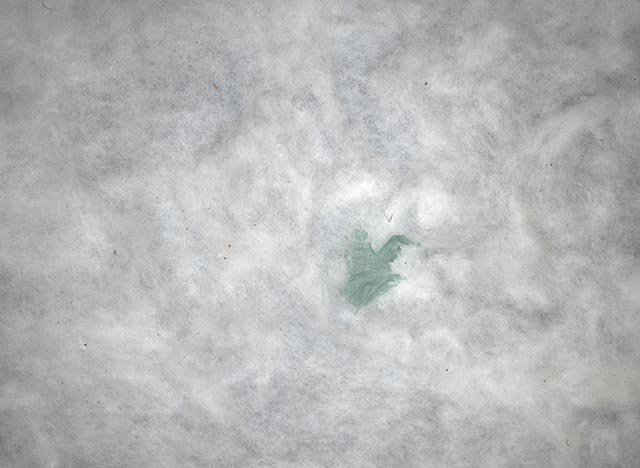plastic film: (339, 227, 411, 307)
